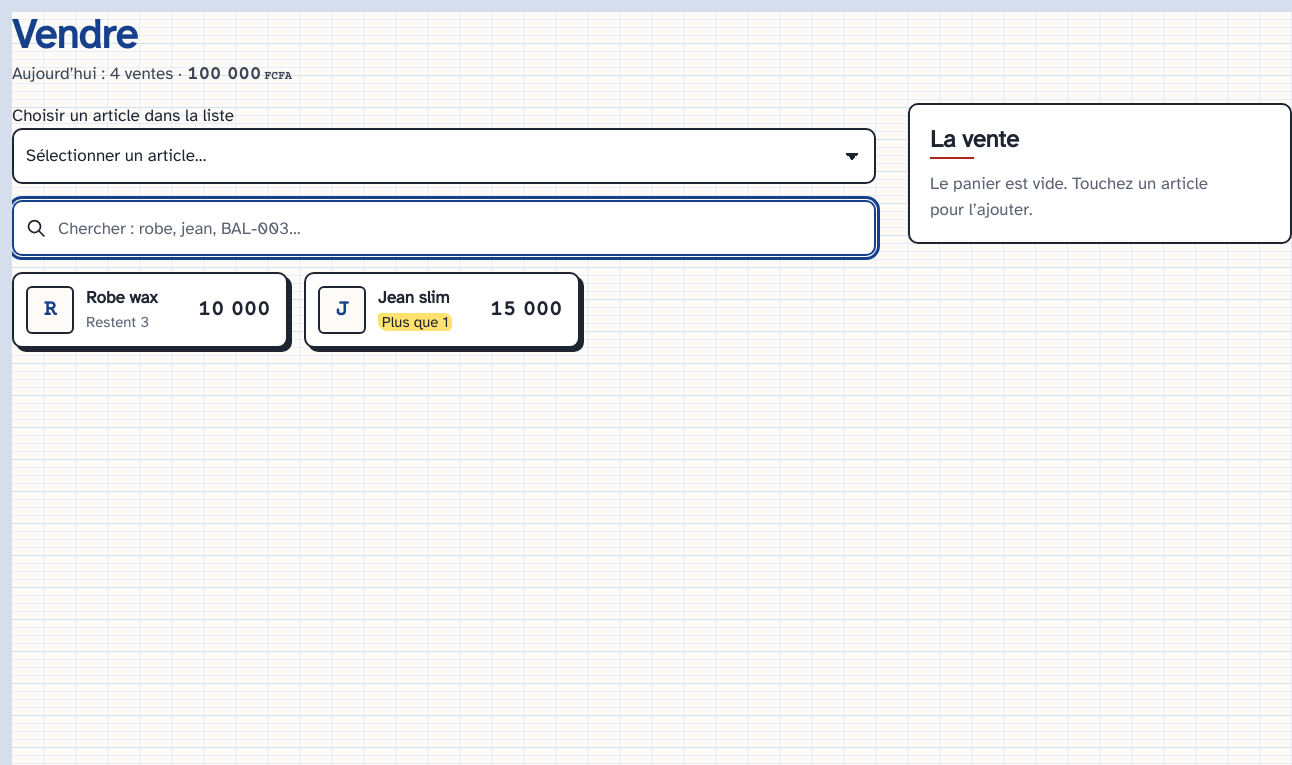
Scenario: SalePage — computer › the cart sits beside the articles
expect the text "Robe wax" is shown: met, box x1=86 y1=287 x2=157 y2=308
expect the text "Le panier est vide. Touchez un article pour l’ajouter." is shown: met, box x1=930 y1=173 x2=1208 y2=220
Click the button "R Robe wax Restent 3 10 000". click: click(150, 310)
box: x1=12 y1=272 x2=288 y2=348
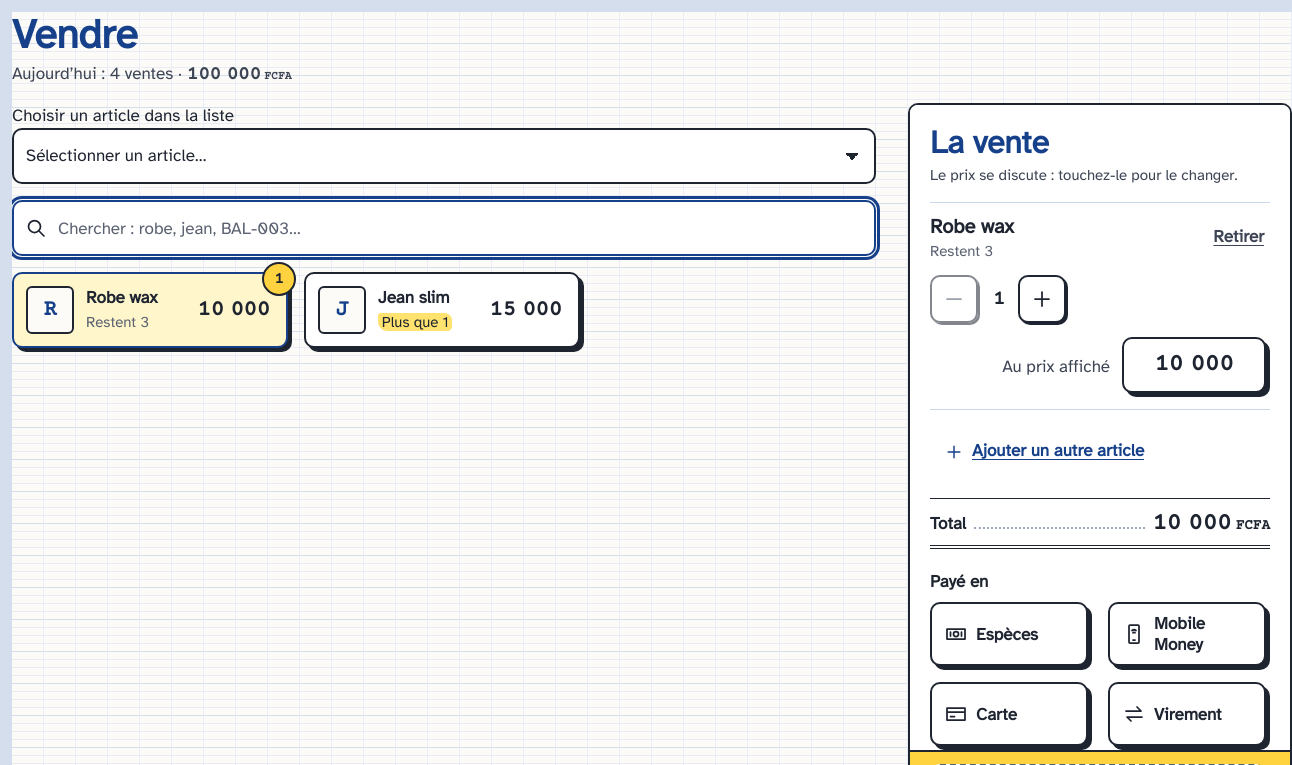
Click the button "1 R Robe wax Restent 3 10 000". click: click(150, 310)
box: x1=12 y1=272 x2=288 y2=348
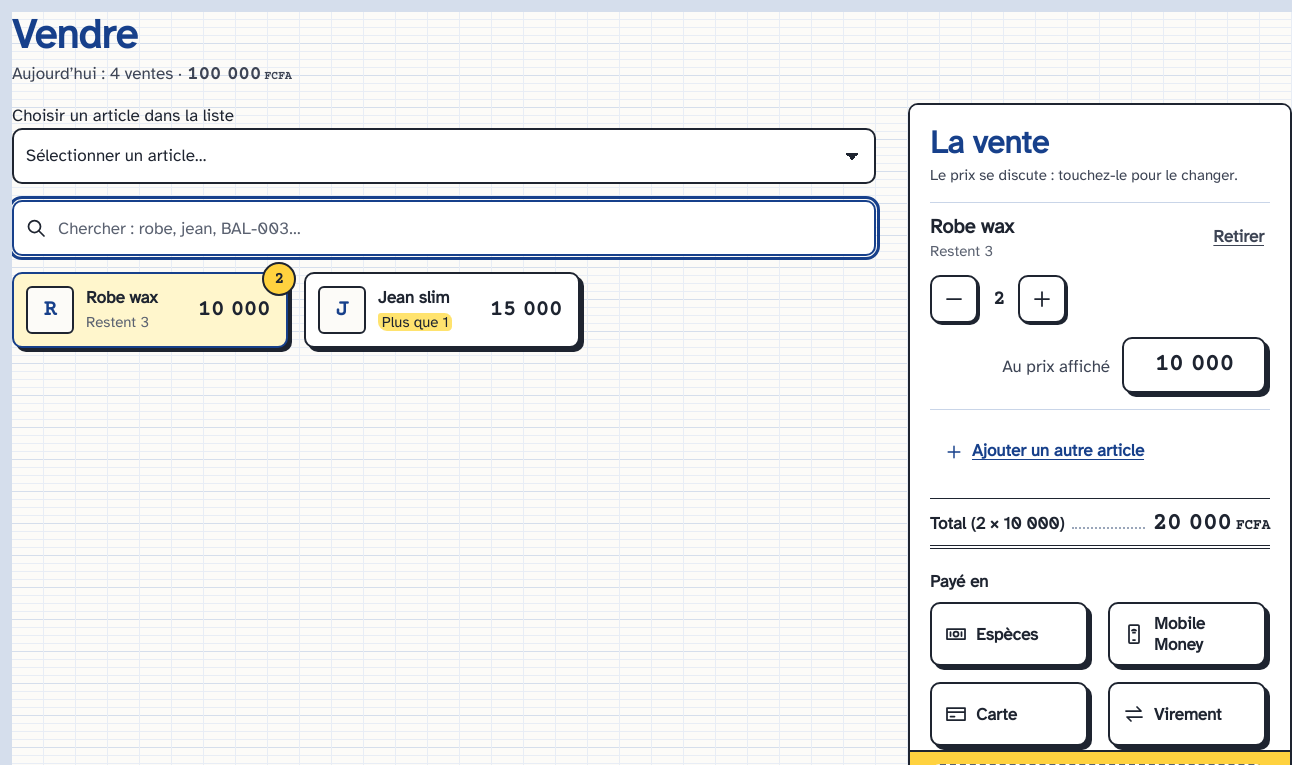
expect the list named "Le panier" is shown: met, box x1=930 y1=202 x2=1270 y2=410
expect the text "Total (2 × 10 000)" is shown: met, box x1=930 y1=511 x2=1064 y2=536
